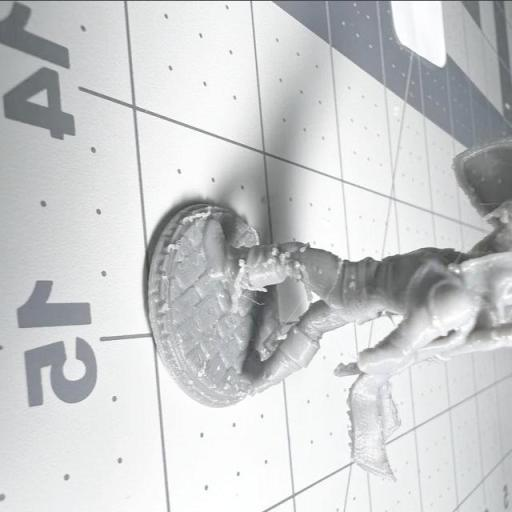blobs: (346, 277, 360, 292), (277, 250, 290, 264), (296, 240, 308, 254), (293, 271, 304, 282), (292, 258, 302, 269), (264, 256, 274, 267), (290, 326, 300, 335), (237, 258, 246, 267), (318, 266, 326, 276), (269, 246, 278, 254)
